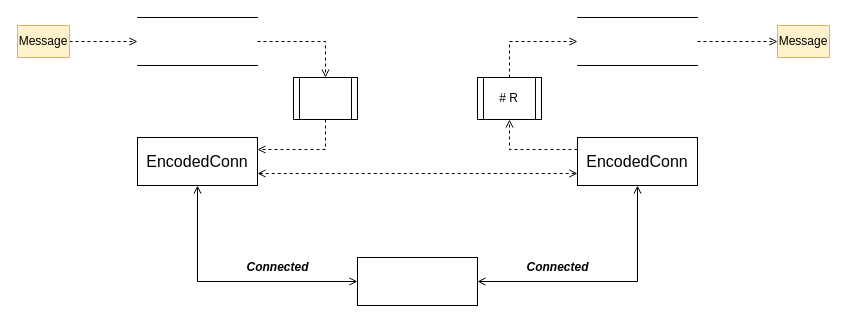
This 847x323 diagram has some shape labels left out. Each missing label, with the centre of its shape:
# W: (x=325, y=98)
NATS: (x=417, y=281)
